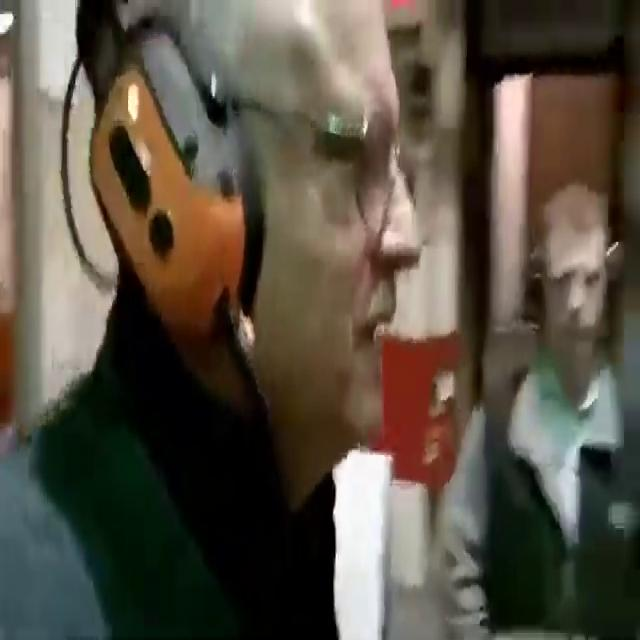earmuff: (88, 12, 264, 356)
